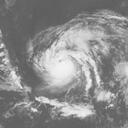cyclone: (32, 39, 84, 92)
